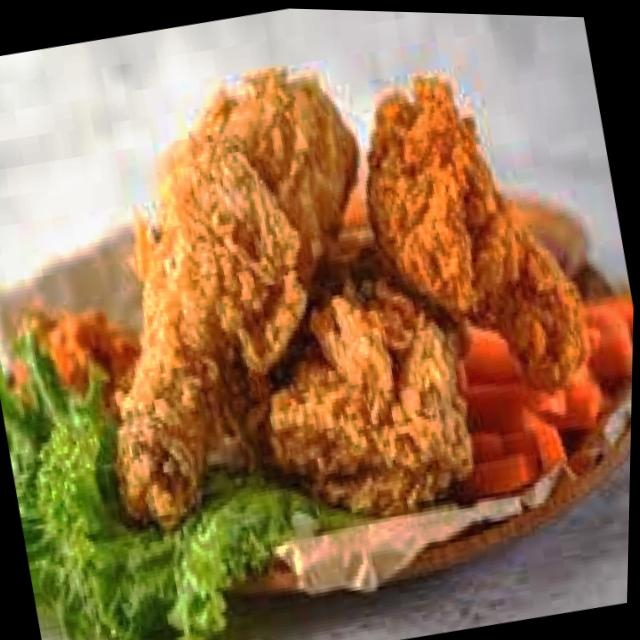fried_chicken: (48, 59, 422, 533), (122, 180, 484, 553), (342, 57, 605, 425)
